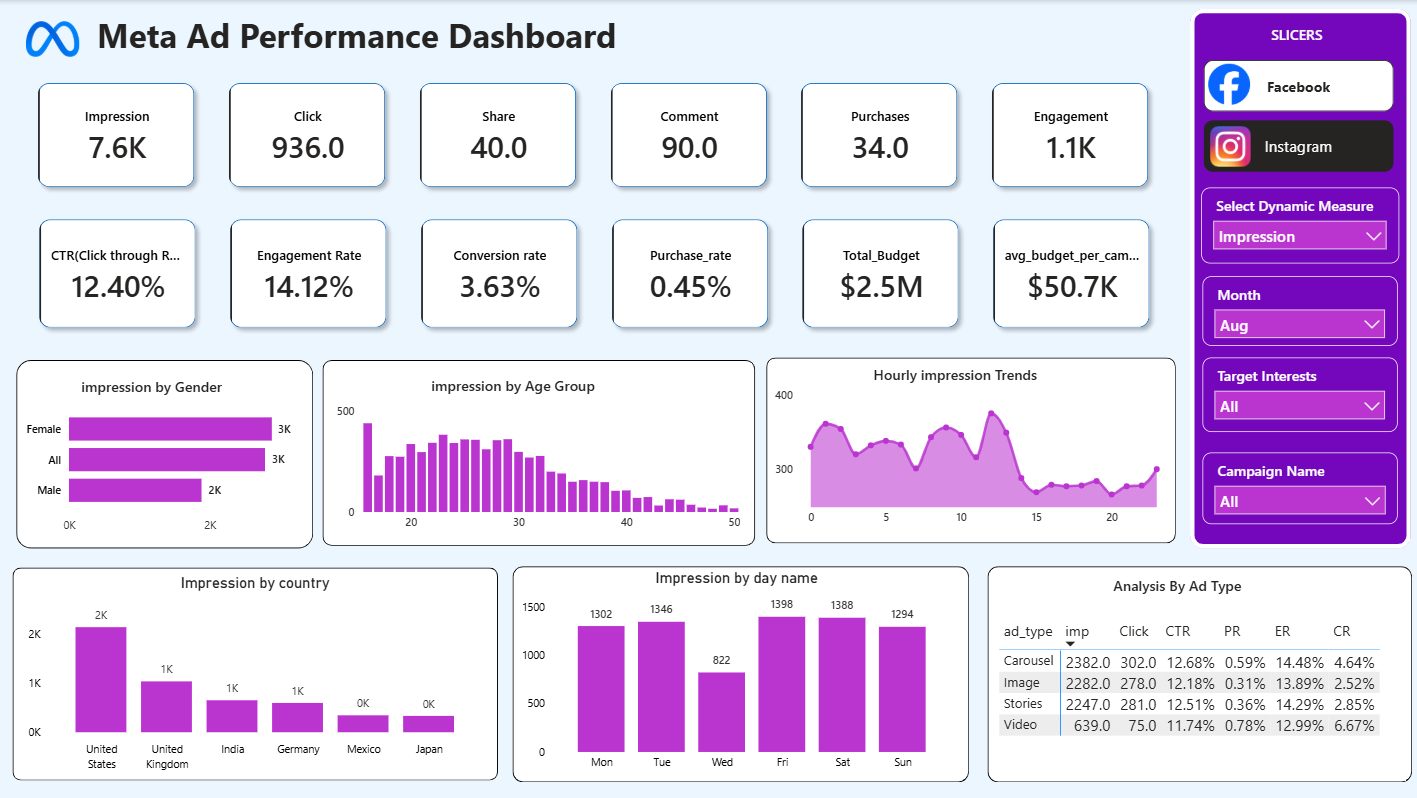

Layout of this report page (visuals, bound fields, positions):
{"tool":"powerbi","page":{"name":"Facebook","canvas":[1600,900],"ordinal":0},"visuals":[{"type":"shape","box":[1112.8,637.4,478.4,258.3],"z":0},{"type":"shape","box":[863.6,402.6,461.6,209.4],"z":1000},{"type":"shape","box":[578.7,637.7,514.8,262.3],"z":2000},{"type":"textbox","box":[100.9,13.8,1007.3,67.3],"z":3000},{"type":"image","box":[13.8,24.5,90.2,39.7],"z":4000},{"type":"shape","box":[1341.3,9.2,249.2,608.4],"z":5000},{"type":"cardVisual","fields":{"Data":["ad_events.impression","ad_events.Click","ad_events.Share","ad_events.Comment","ad_events.Purchases","ad_events.Engagement"]},"box":[13.8,64.2,1313,175.8],"z":6000},{"type":"cardVisual","fields":{"Data":["ad_events.CTR(Click through Rates)","ad_events.Engagement Rate","ad_events.Conversion rate","ad_events.Purchase_rate","ad_events.Total_Budget","ad_events.avg_budget_per_campaings"]},"box":[15.3,218.6,1311.5,180.4],"z":7000},{"type":"slicer","fields":{"Values":["Select Dynamic Measure.Select Dynamic Measure"]},"box":[1354.1,211.5,223,85.2],"z":8000},{"type":"shape","box":[18.3,405.1,334.8,212.5],"z":9000},{"type":"barChart","fields":{"Y":["ad_events.Impression"],"Category":["ads.target_gender"]},"box":[24,444.3,325.9,166.4],"z":10000},{"type":"cardVisual","fields":{"Data":["ad_events.Gender title"]},"box":[67.3,403.5,236.9,61.1],"z":11000},{"type":"shape","box":[363.8,405.1,487.6,209.4],"z":12000},{"type":"columnChart","fields":{"Y":["ad_events.Impression"],"Category":["Users.user_age"]},"box":[374.5,426.5,464.7,180.4],"z":13000},{"type":"cardVisual","fields":{"Data":["ad_events.Age title"]},"box":[450.9,398.9,255.3,67.3],"z":14000},{"type":"shape","box":[13.8,640.5,547.2,256.8],"z":15000},{"type":"columnChart","fields":{"Y":["ad_events.Impression"],"Category":["Users.country"]},"box":[27.5,649.6,521.2,230.8],"z":16000},{"type":"slicer","fields":{"Values":["Calender Table.Month"]},"box":[1355.7,311.5,219.7,78.7],"z":17000},{"type":"clusteredColumnChart","fields":{"Y":["ad_events.Impression"],"Category":["Calender Table.day name"]},"box":[584.9,643.2,502.6,253.9],"z":18000},{"type":"areaChart","fields":{"Y":["ad_events.Impression"],"Category":["ad_events.Event Hour"]},"box":[867.9,430.5,451.1,169.8],"z":19000},{"type":"cardVisual","fields":{"Data":["ad_events.Hourly title"]},"box":[930.9,388.2,292,65.7],"z":20000},{"type":"pivotTable","fields":{"Rows":["ads.ad_type"],"Values":["ad_events.impression","ad_events.Click","ad_events.CTR(Click through Rates)","ad_events.Purchase_rate","ad_events.Engagement Rate","ad_events.Conversion rate"]},"box":[1128.1,692.4,463.1,188],"z":21000},{"type":"slicer","fields":{"Values":["ads.target_interests"]},"box":[1355.7,403.3,219.7,83.6],"z":22000},{"type":"slicer","fields":{"Values":["Campaings.name"]},"box":[1355.8,510.5,220.1,81],"z":23000},{"type":"pageNavigator","box":[1356.7,67.9,214.8,126.2],"z":24000},{"type":"image","box":[1362.7,142.5,48.9,45.6],"z":25000},{"type":"image","box":[1360.5,72.5,48.9,46.7],"z":26000},{"type":"textbox","box":[1238.1,643.5,177.3,48.9],"z":27000},{"type":"textbox","box":[1386.9,23,150.8,41],"z":28000}]}

Visuals, with their boxes in screenshot pixels (x1, y1, x2, y2), scaled from the page's 1600x900 canvas onto the 1417x798 screenshot:
shape: select_region(986, 565, 1409, 794)
shape: select_region(765, 357, 1174, 543)
shape: select_region(513, 565, 968, 797)
textbox: select_region(89, 12, 981, 72)
image: select_region(12, 22, 92, 57)
shape: select_region(1188, 8, 1409, 548)
cardVisual - ad_events.impression x ad_events.Click: select_region(12, 57, 1175, 213)
cardVisual - ad_events.CTR(Click through Rates) x ad_events.Engagement Rate: select_region(14, 194, 1175, 354)
slicer - Select Dynamic Measure.Select Dynamic Measure: select_region(1199, 188, 1397, 263)
shape: select_region(16, 359, 313, 548)
barChart - ad_events.Impression x ads.target_gender: select_region(21, 394, 310, 541)
cardVisual - ad_events.Gender title: select_region(60, 358, 269, 412)
shape: select_region(322, 359, 754, 545)
columnChart - ad_events.Impression x Users.user_age: select_region(332, 378, 743, 538)
cardVisual - ad_events.Age title: select_region(399, 354, 625, 413)
shape: select_region(12, 568, 497, 796)
columnChart - ad_events.Impression x Users.country: select_region(24, 576, 486, 781)
slicer - Calender Table.Month: select_region(1201, 276, 1395, 346)
clusteredColumnChart - ad_events.Impression x Calender Table.day name: select_region(518, 570, 963, 795)
areaChart - ad_events.Impression x ad_events.Event Hour: select_region(769, 382, 1168, 532)
cardVisual - ad_events.Hourly title: select_region(824, 344, 1083, 402)
pivotTable - ads.ad_type x ad_events.impression: select_region(999, 614, 1409, 781)
slicer - ads.target_interests: select_region(1201, 358, 1395, 432)
slicer - Campaings.name: select_region(1201, 453, 1396, 524)
pageNavigator: select_region(1202, 60, 1392, 172)
image: select_region(1207, 126, 1250, 167)
image: select_region(1205, 64, 1248, 106)
textbox: select_region(1096, 571, 1254, 614)
textbox: select_region(1228, 20, 1362, 57)
